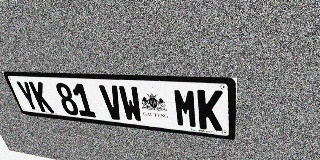1: (70, 83, 96, 117)
8: (54, 83, 80, 116)
K: (197, 89, 223, 131), (28, 81, 54, 113)
M: (173, 88, 198, 128)
V: (98, 85, 125, 121)
W: (117, 86, 144, 123)
Y: (15, 81, 41, 111)
